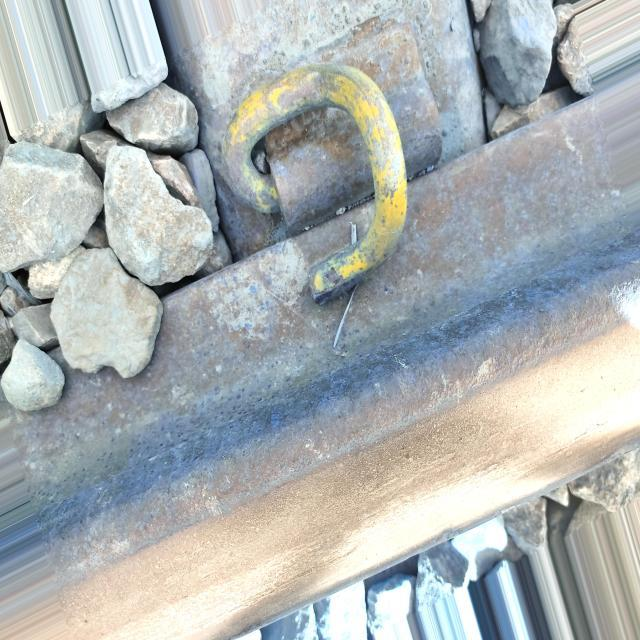Good Fasteners: (221, 18, 442, 295)
